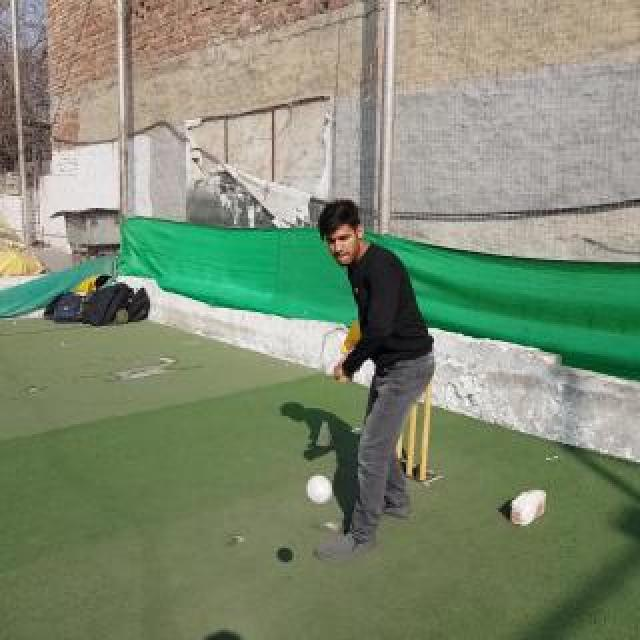ball: (308, 474, 332, 504)
